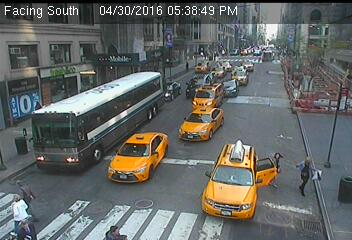neg: (320, 51, 341, 78), (231, 20, 250, 45), (252, 71, 270, 95), (294, 66, 307, 84), (305, 63, 318, 80), (293, 22, 304, 36), (205, 26, 216, 40), (280, 29, 290, 43), (318, 17, 327, 29)
pos: (290, 152, 324, 198), (1, 193, 34, 237), (16, 216, 33, 238), (182, 59, 191, 71)
